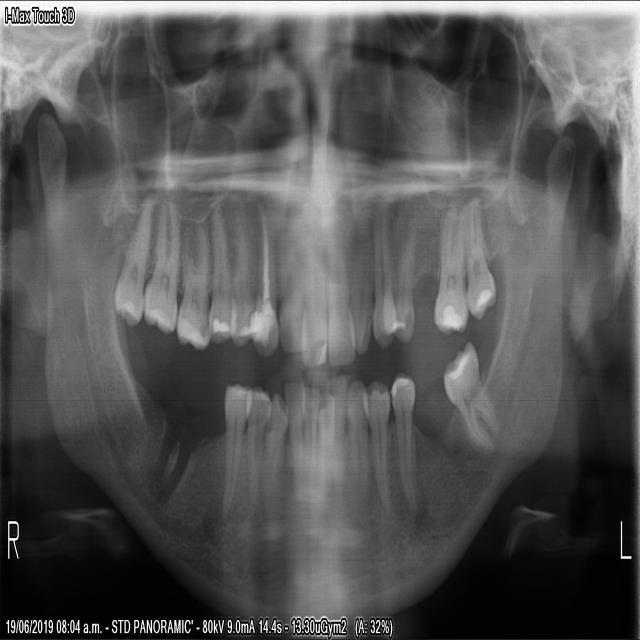LCD: (340, 374, 369, 505)
LCU: (346, 205, 374, 358)
LID: (322, 368, 348, 504), (314, 386, 334, 494)
LIU: (324, 216, 356, 369)
LMD: (438, 334, 501, 462)
LMU: (429, 193, 468, 342), (463, 189, 497, 324)
LPMD: (358, 372, 394, 526), (386, 368, 418, 519)
LPMU: (369, 200, 395, 353), (391, 214, 417, 351)
RCD: (260, 386, 290, 506)
RCU: (248, 189, 279, 361)
RID: (282, 374, 306, 504), (298, 376, 319, 504)
RIU: (298, 212, 327, 373), (276, 218, 308, 359)
RMU: (140, 190, 180, 340), (109, 193, 152, 332), (174, 210, 210, 355)
RPMD: (216, 373, 255, 529), (241, 380, 273, 521)
RPMU: (226, 195, 255, 348), (206, 199, 235, 348)
